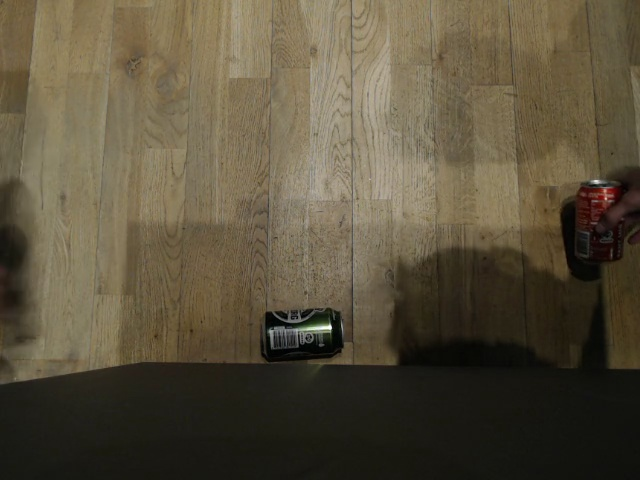beer: (256, 305, 348, 362)
cola: (570, 175, 632, 267)
